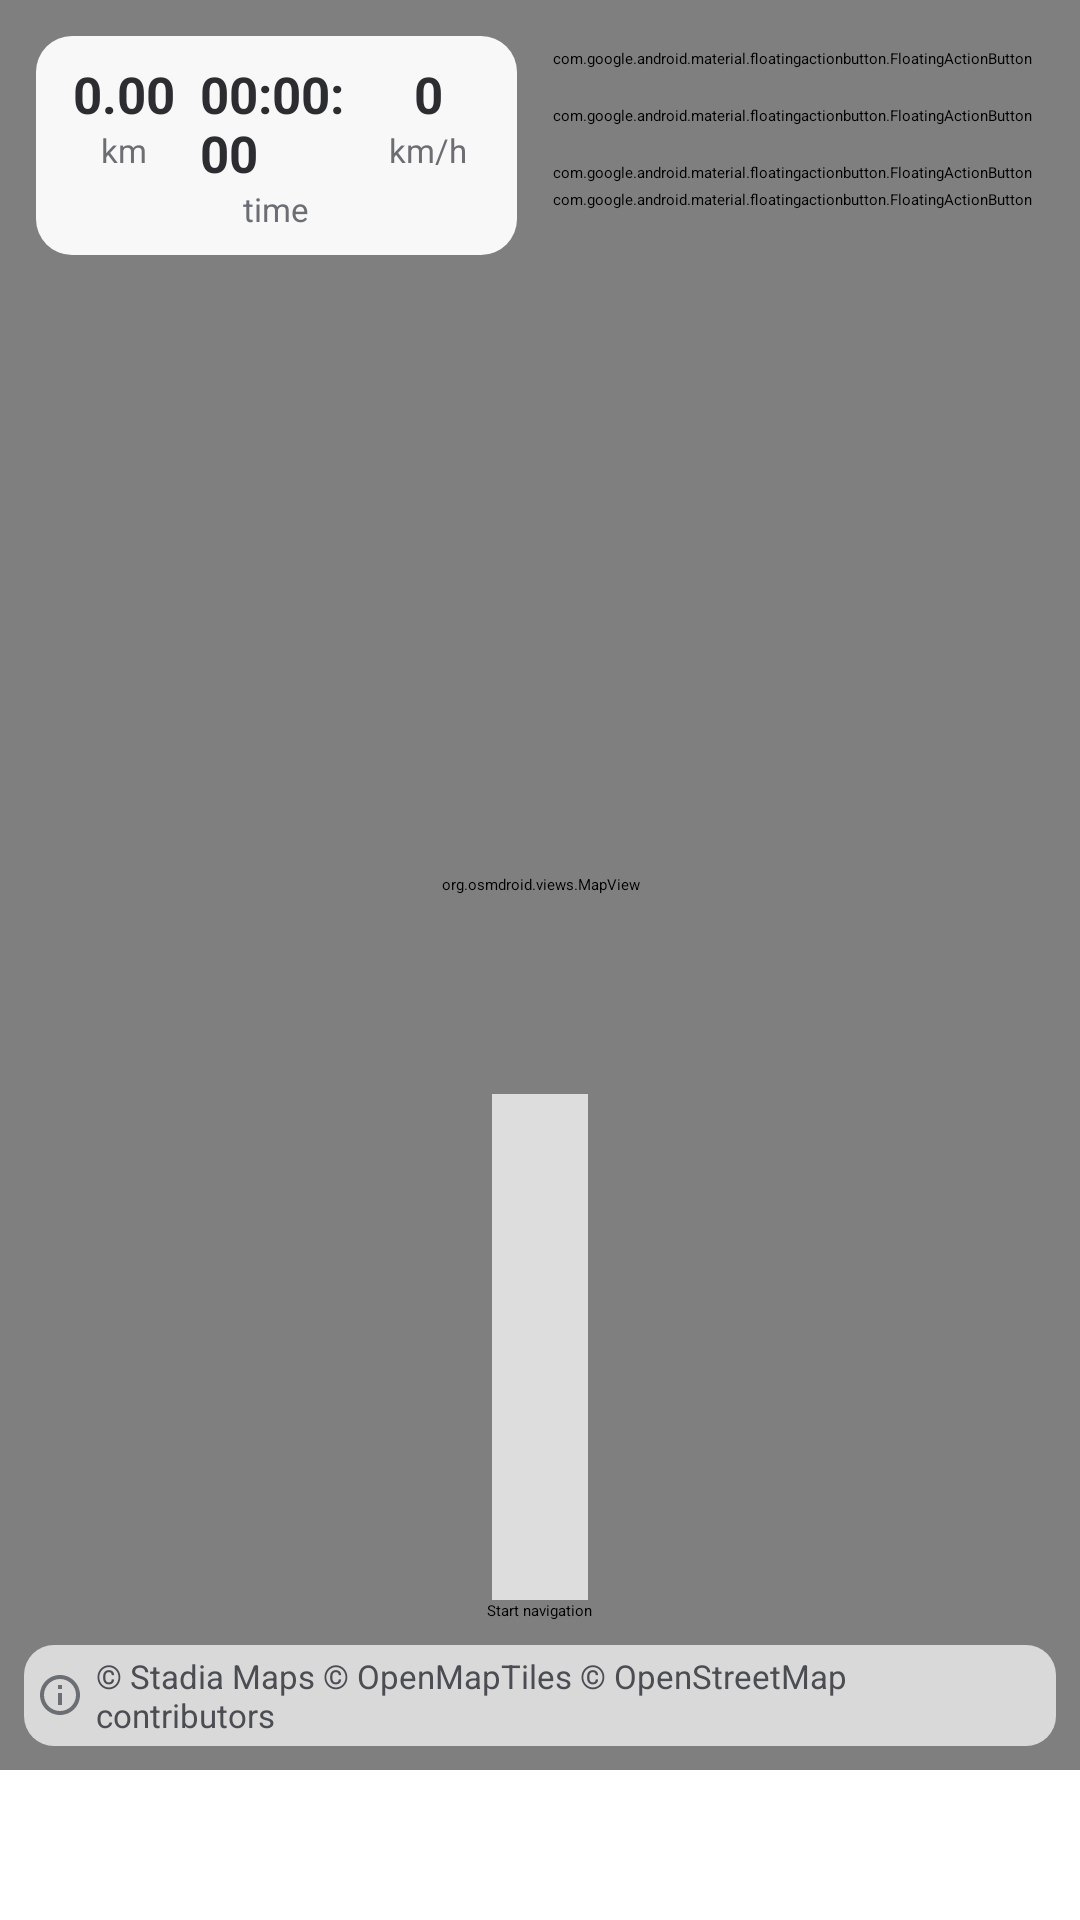

Screen size 1080x1920. Icon name, then its center in pixels as [x,y]:
Map credits: [60,1695]
